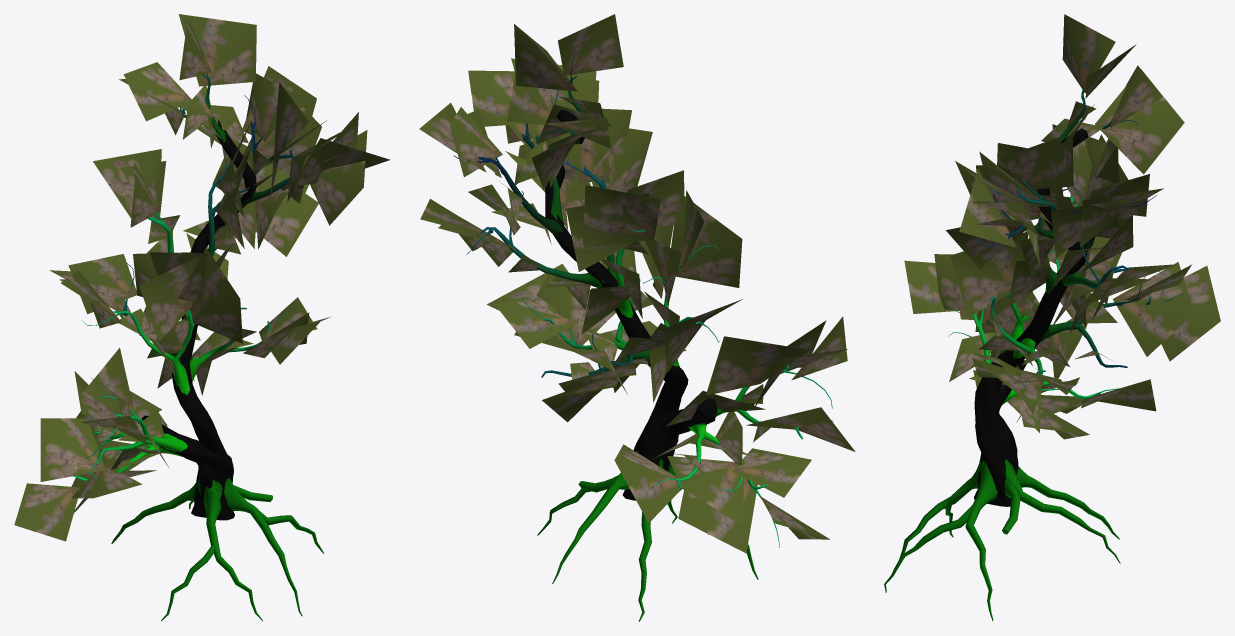
The model's file is old.fbx.
3 renders of one model, left to right at view 1: azimuth 30°, elevation 25°; view 2: azimuth 150°, elevation 25°; view 3: azimuth 270°, elevation 25°, orthographic. The views are drawn at different scales.
Parts seen in each view (by area): view 1: Tree_2, Tree_0; view 2: Tree_2, Tree_0; view 3: Tree_2, Tree_0.
Part boxes in pixels (x1,y1,x2,y2): Tree_2: (14, 14, 390, 541); Tree_0: (73, 51, 336, 621); Tree_2: (419, 14, 855, 553); Tree_0: (453, 51, 833, 621); Tree_2: (904, 14, 1220, 439); Tree_0: (884, 61, 1182, 621).
Bounding box in the file's own units: 571 × 858 × 465.
